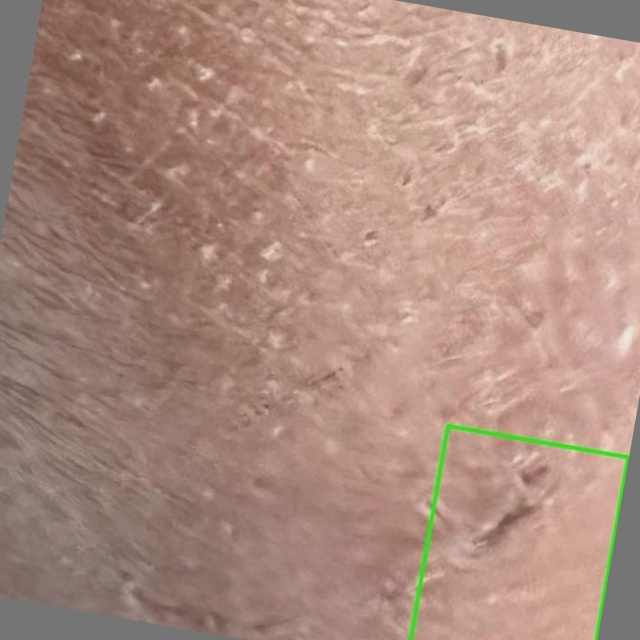Atopic Dermatitis: (411, 425, 628, 639)
